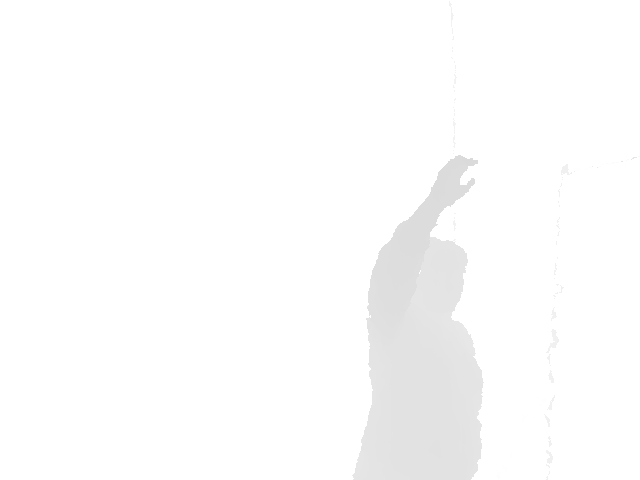hand: (430, 155, 478, 214)
head: (388, 237, 469, 319)
person: (350, 154, 485, 480)
